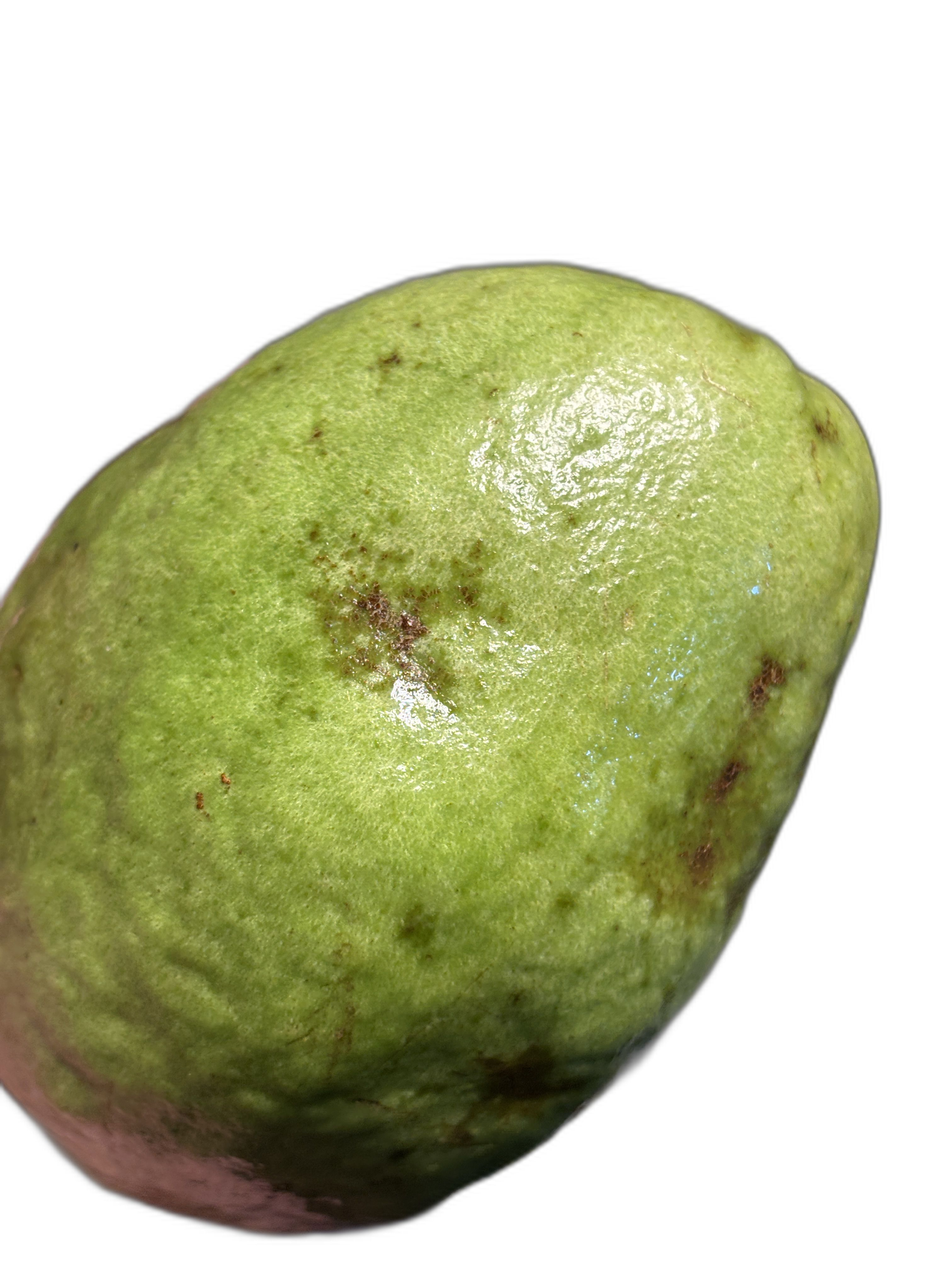guava: (117, 267, 952, 1049)
